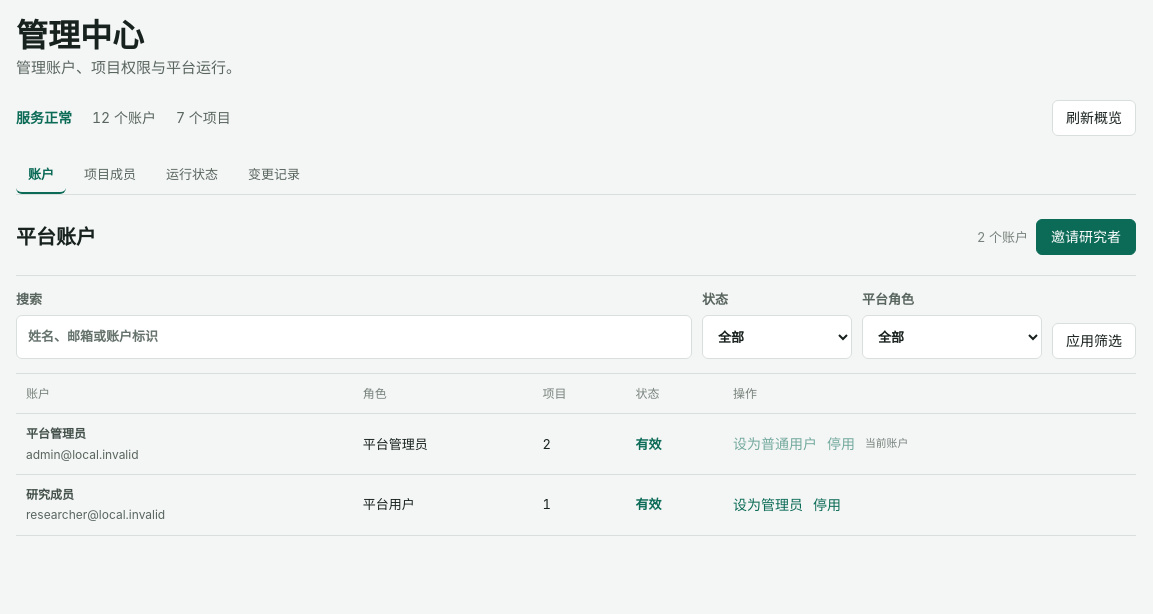
loads the bounded overview, user directory and audit trail for an administrator
The image size is (1153, 614).
Check: the heading "管理中心" is shown, box x1=16 y1=16 x2=144 y2=55
Check: the number of panels is 1, box x1=16 y1=219 x2=1136 y2=536
Click the tab "运行状态". click: x=192, y=175
box: x1=154 y1=156 x2=230 y2=194
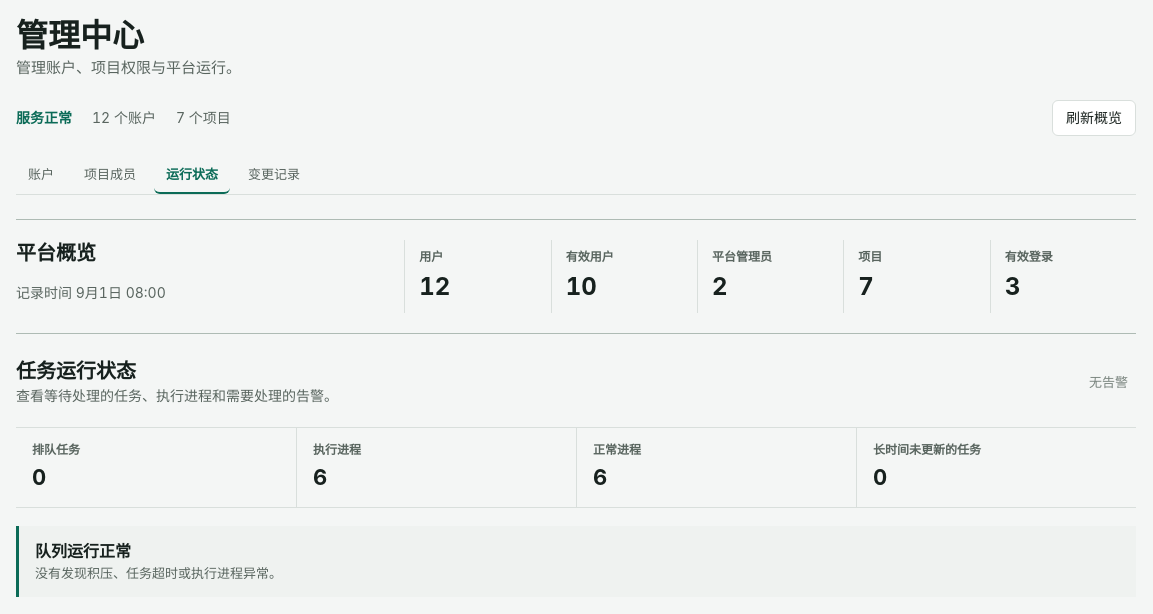
Check: the heading "任务运行状态" is shown, box x1=16 y1=359 x2=136 y2=383
Check: the text "队列运行正常" is shown, box x1=35 y1=541 x2=131 y2=561
